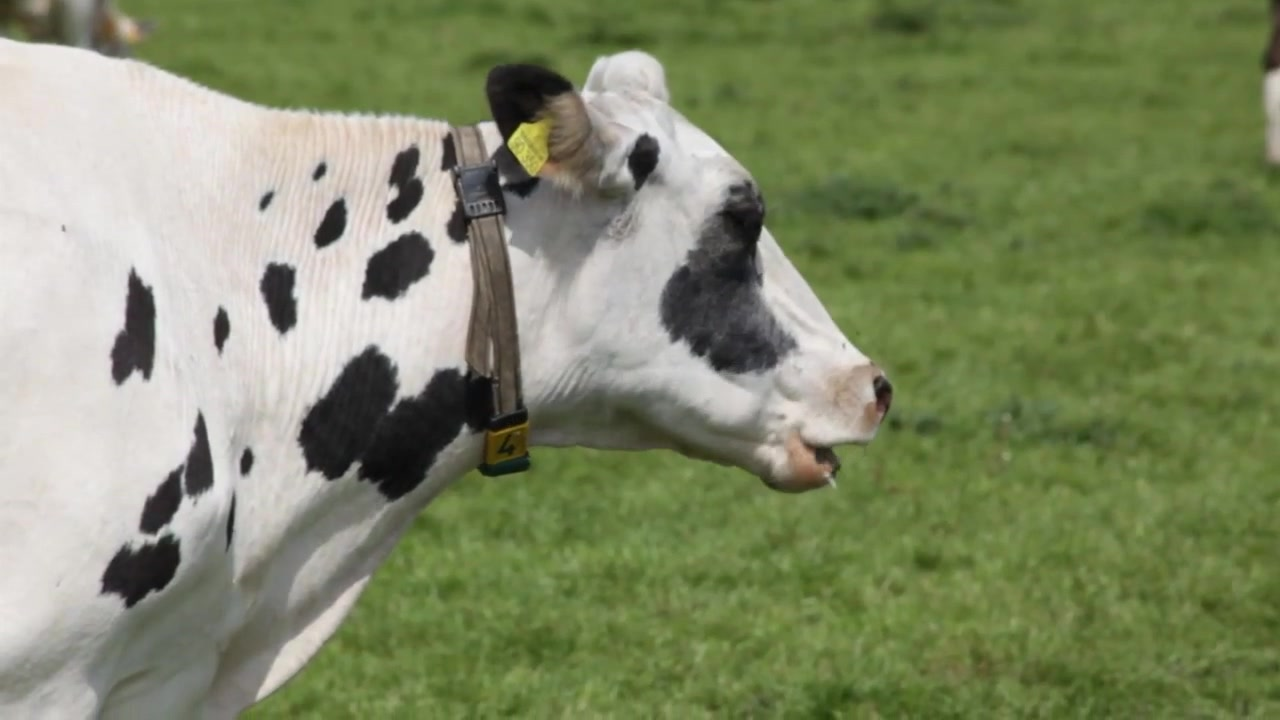cow: (2, 29, 896, 720)
